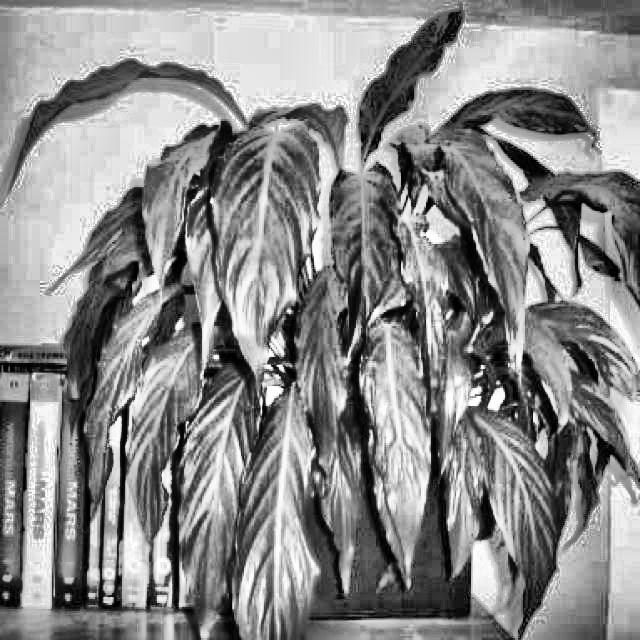plants: (61, 123, 638, 638)
